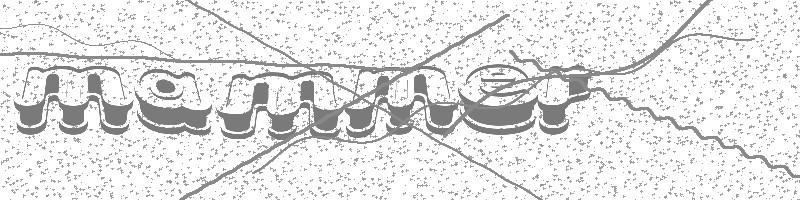a: (134, 66, 213, 140)
e: (454, 62, 538, 132)
m: (8, 63, 137, 139), (211, 68, 343, 142), (340, 64, 464, 138)
r: (534, 63, 595, 136)
